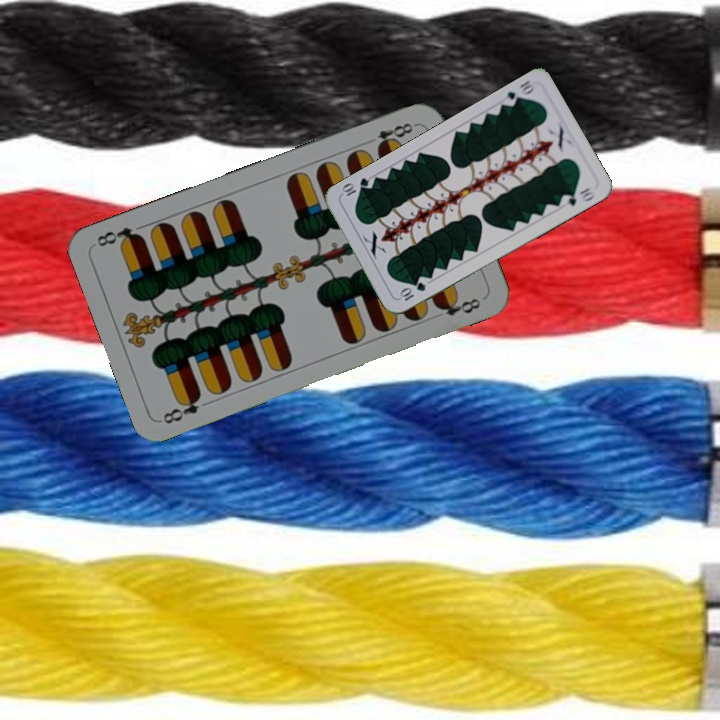E8: (362, 118, 420, 153), (158, 389, 204, 427)
G10: (502, 76, 538, 109), (396, 278, 428, 304)
